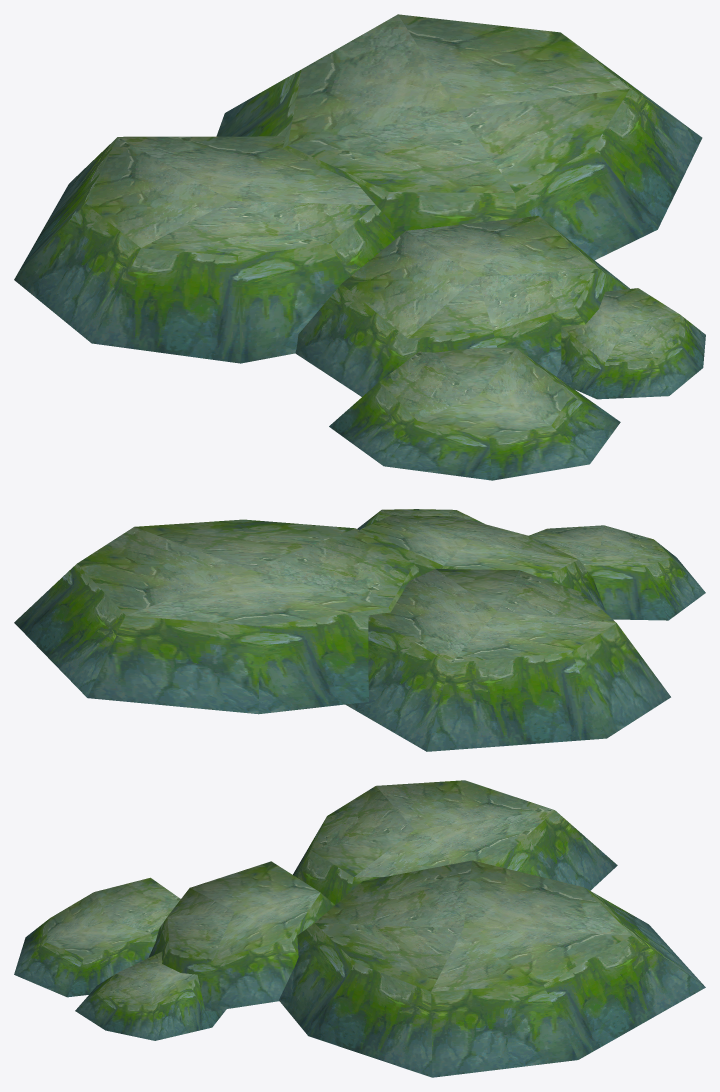
Rendered from environment_stone_shilu_001_c.FBX.
3 renders of one model, top to bottom at view 1: azimuth 30°, elevation 25°; view 2: azimuth 150°, elevation 25°; view 3: azimuth 270°, elevation 25°, orthographic. The views are drawn at different scales.
Parts seen in each view (by area): view 1: environment_stone_shilu_001_c; view 2: environment_stone_shilu_001_c; view 3: environment_stone_shilu_001_c.
Part boxes in pixels (<box>): environment_stone_shilu_001_c: <box>14,14,705,480</box>; environment_stone_shilu_001_c: <box>14,509,705,751</box>; environment_stone_shilu_001_c: <box>14,780,705,1077</box>.
Size of the model in its own units: 155 by 30.55 by 171.
